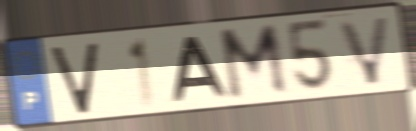1: (126, 34, 156, 111)
5: (284, 17, 336, 97)
A: (170, 34, 232, 103)
M: (216, 21, 292, 104)
V: (335, 13, 393, 89), (49, 39, 101, 117)
